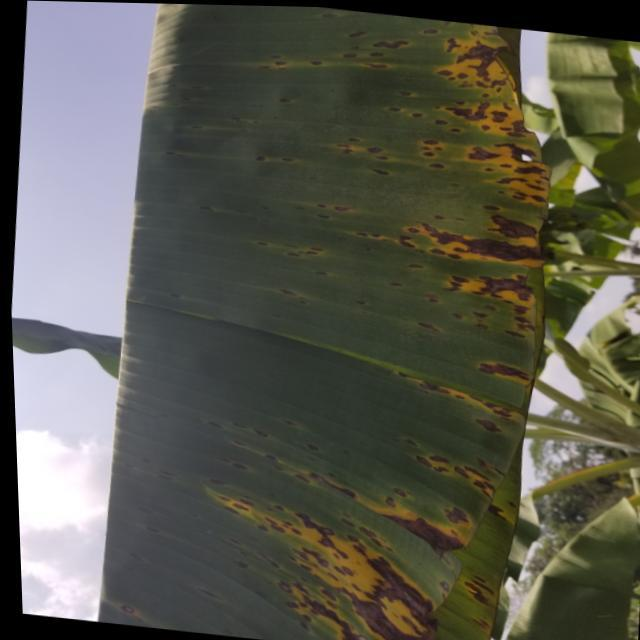Early_rust: (92, 0, 570, 640)
